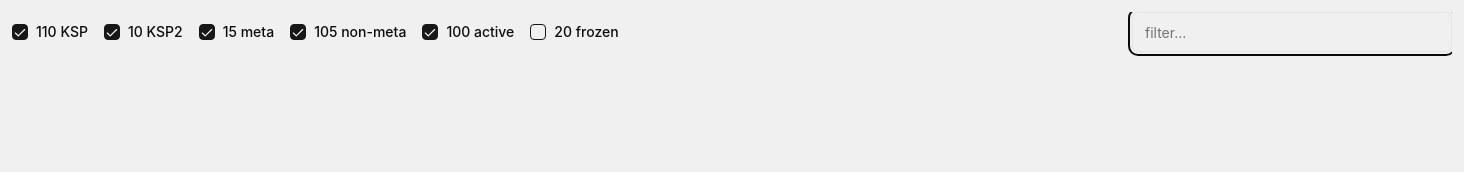
Test case: FilterControls › should show clear button when text is entered
The width and height of the screenshot is (1464, 172).
Type "test" into the field with placeholder "filter..." at (1292, 32), box 1132,12 -> 1452,52
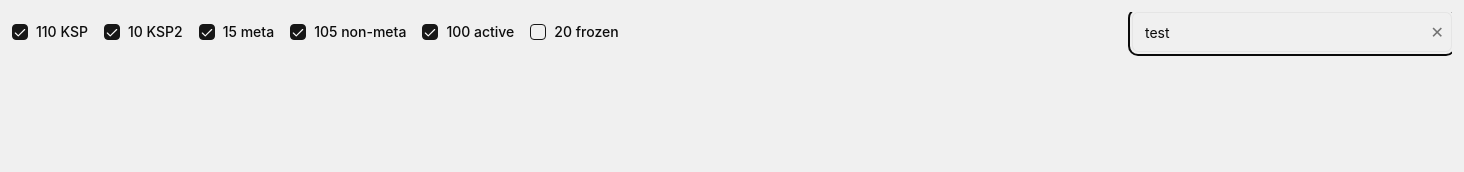
Expected: the button named "clear search" is shown, 1431,20 -> 1444,44
